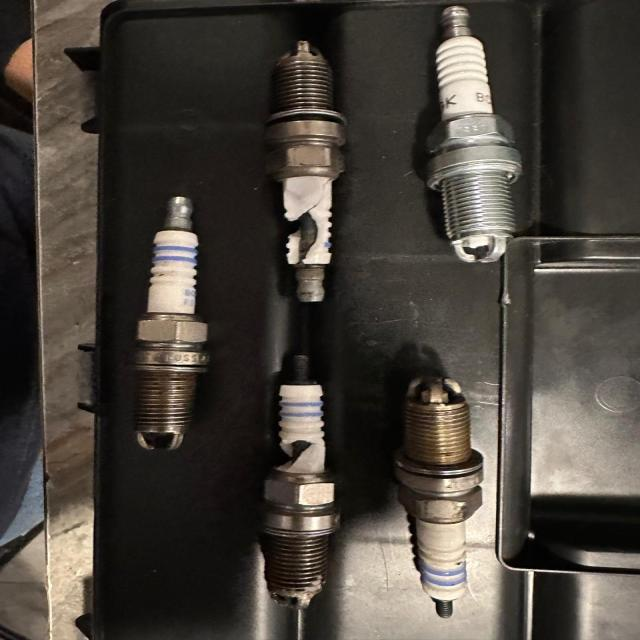damaged_spark-plug: (267, 358, 349, 640), (279, 39, 344, 308)
spark-plug: (426, 5, 526, 270), (388, 385, 489, 620), (136, 193, 204, 446)
